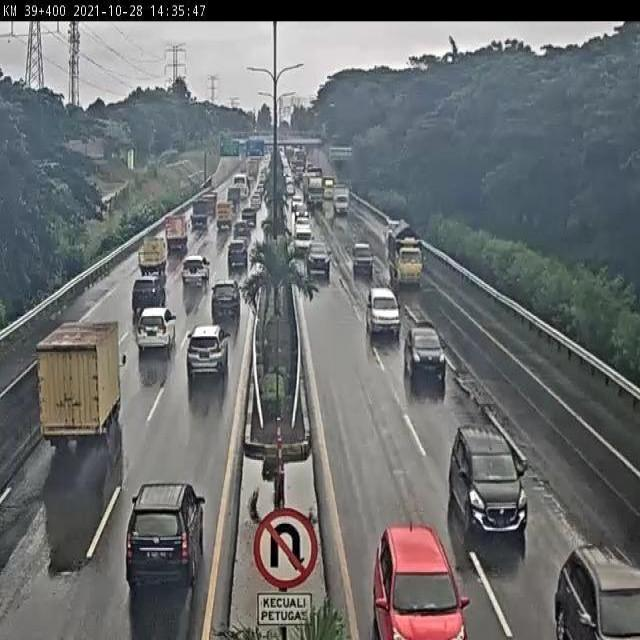big truck: (308, 179, 328, 212)
car: (111, 476, 216, 593), (376, 516, 472, 640), (451, 422, 534, 546), (562, 533, 640, 640), (355, 281, 411, 347), (180, 321, 226, 387), (408, 321, 451, 388), (133, 296, 173, 364), (350, 243, 381, 289), (213, 277, 244, 323), (311, 241, 333, 287), (179, 253, 205, 286), (230, 240, 250, 267), (292, 203, 313, 224), (296, 226, 309, 253), (235, 220, 251, 236)
small truck: (31, 312, 128, 460), (386, 222, 434, 290), (163, 212, 196, 248), (143, 237, 174, 272), (187, 198, 216, 234), (213, 200, 238, 233), (331, 183, 353, 213)
